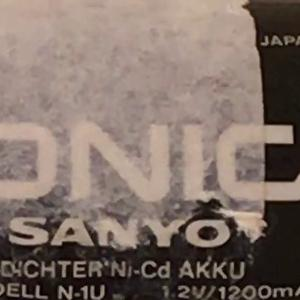keyword: (95, 252, 179, 278)
